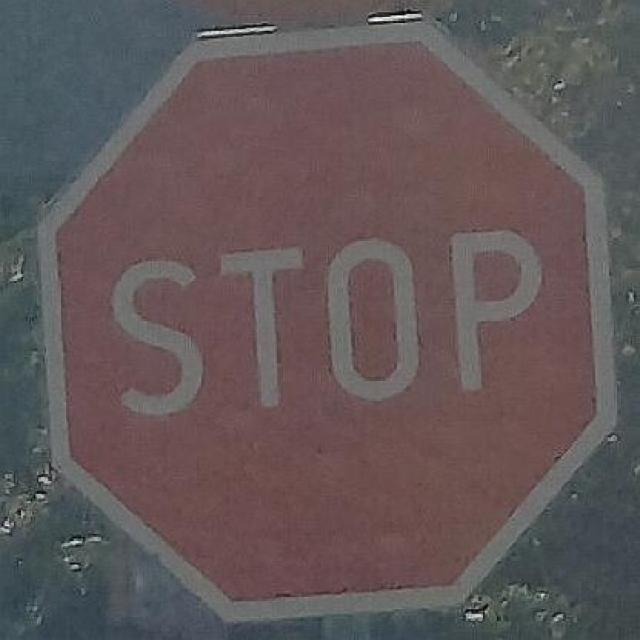Stop: (33, 16, 616, 624)
